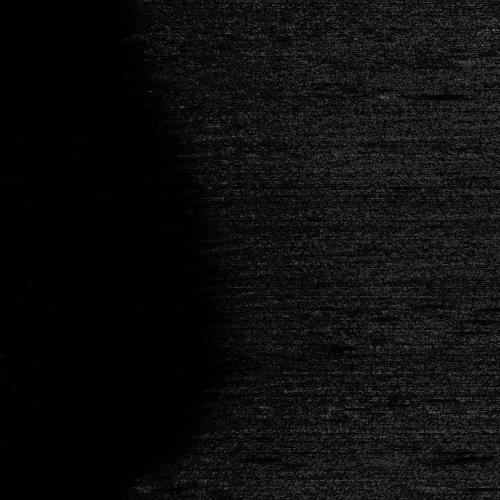object: (433, 54, 500, 63), (378, 89, 419, 96), (378, 455, 431, 460)
shadow: (399, 89, 485, 96), (405, 455, 500, 460), (470, 54, 500, 63)
